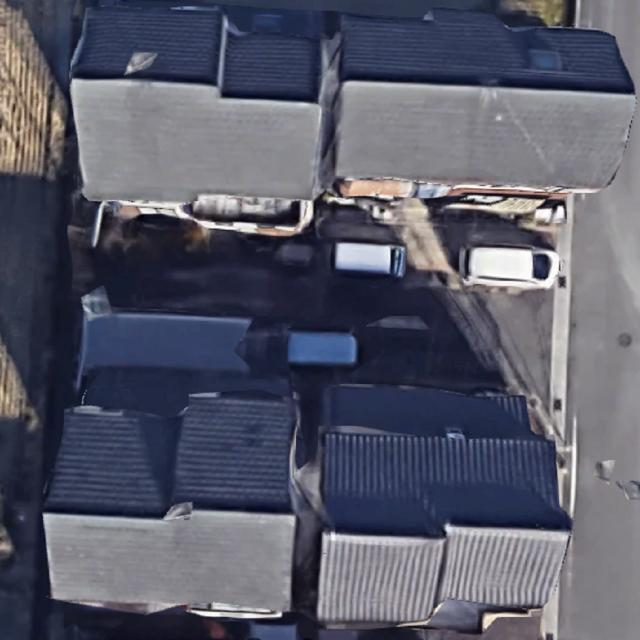Batiment: (316, 385, 571, 624), (332, 10, 634, 198), (44, 394, 297, 611), (71, 8, 320, 201)
